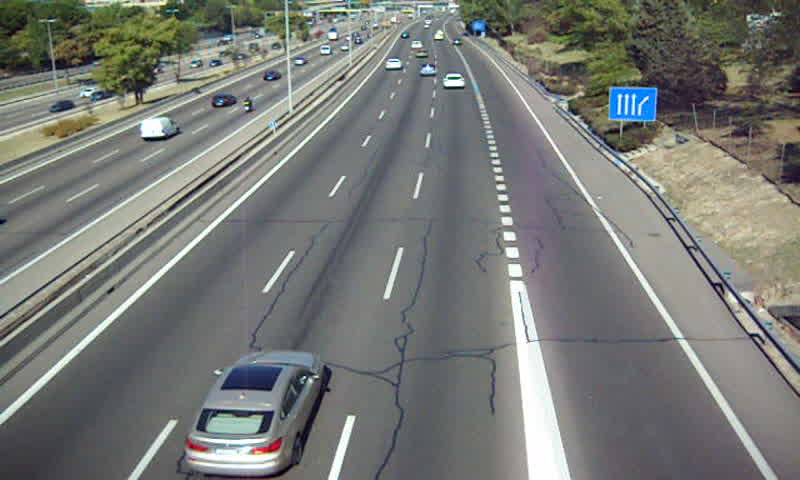car: (184, 349, 326, 477), (442, 72, 466, 90), (419, 62, 436, 77), (384, 58, 404, 70)
